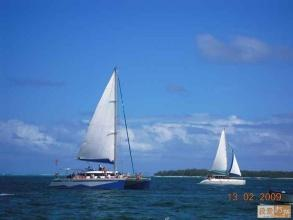fanchuan: (45, 64, 164, 187), (197, 127, 249, 188)
